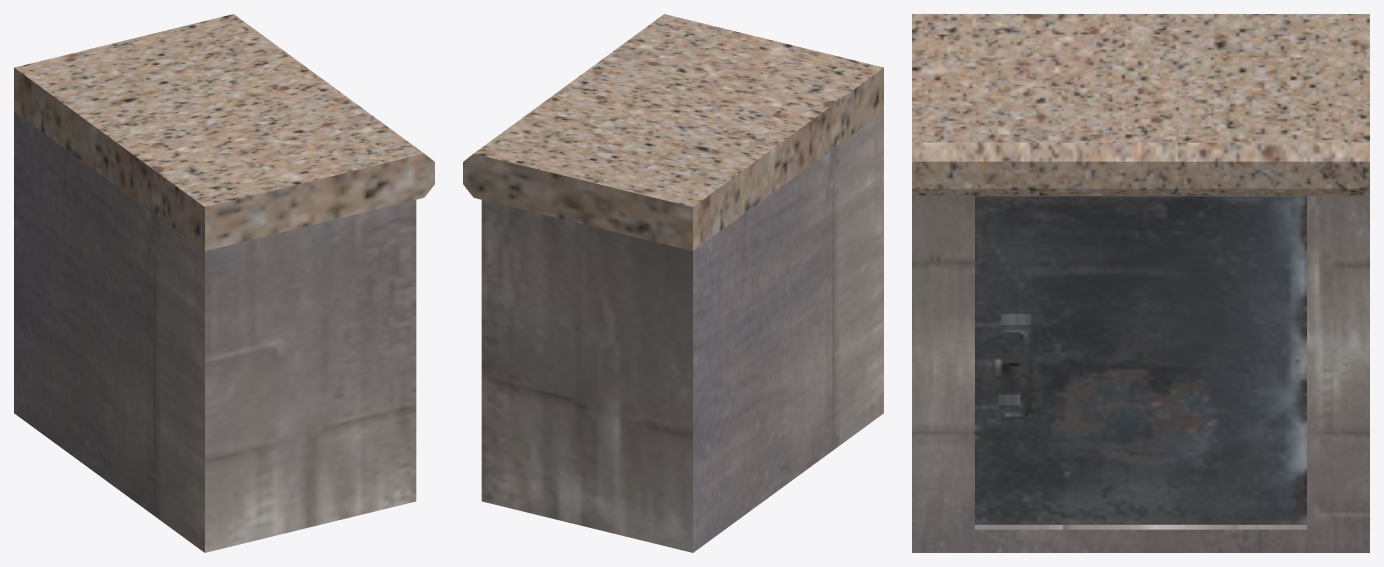
File: oven_counter_top.fbx
3 renders of one model, left to right at view 1: azimuth 30°, elevation 25°; view 2: azimuth 150°, elevation 25°; view 3: azimuth 270°, elevation 25°, orthographic. The views are drawn at different scales.
Parts seen in each view (by area): view 1: Cube; view 2: Cube; view 3: Cube.
Part boxes in pixels (box(x1,y1,x2,y2)): Cube: box(14, 14, 434, 552); Cube: box(463, 14, 883, 552); Cube: box(912, 14, 1369, 552).
Bounding box in the file's own units: 62.63 × 90 × 90.
